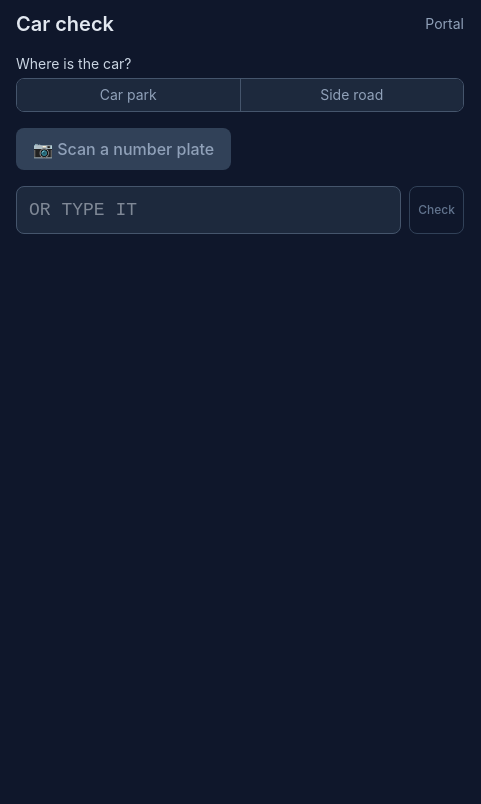
Car check › Not found offers Record this car; it saves the place chosen for the check, and the note
Click the radio button labelled "Side road": (351, 95) [240, 79, 463, 111]
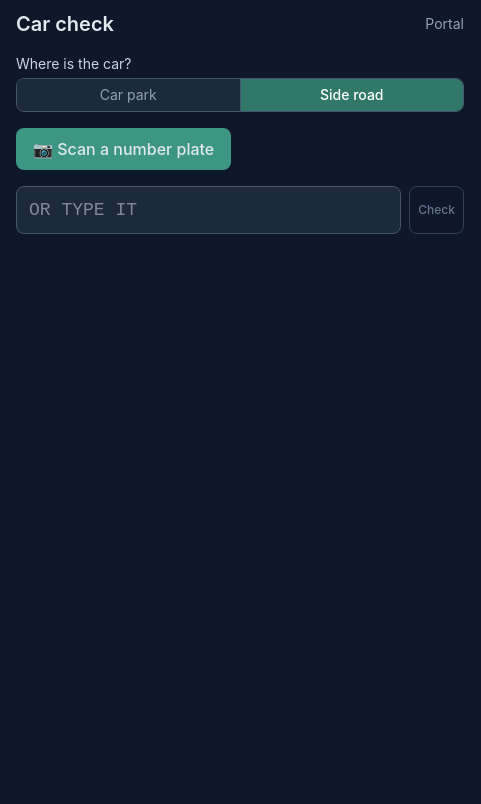
In the field with placeholder "Or type it": (209, 210) [16, 186, 401, 234], type "zz99 zzz"
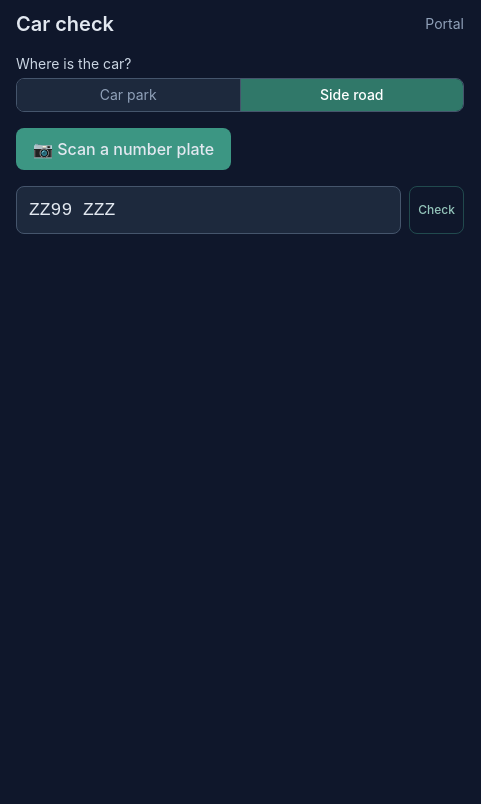
Click the button "Check": (437, 210) [409, 186, 464, 234]
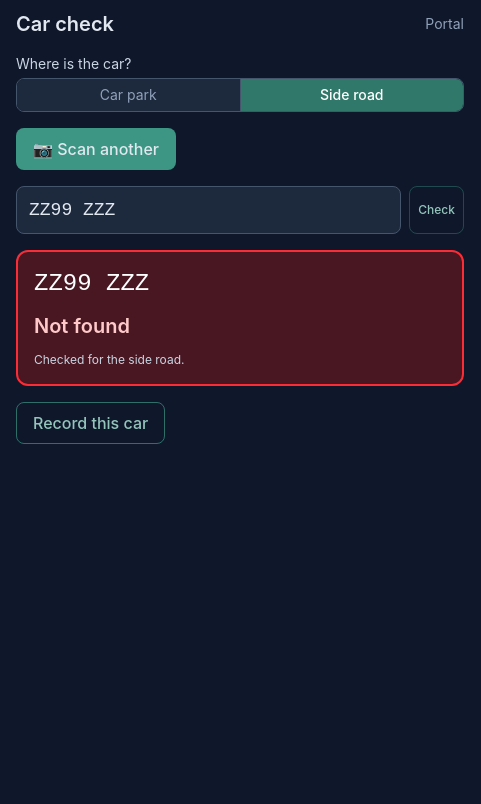
Click the button "Record this car": (91, 423) [16, 402, 165, 444]
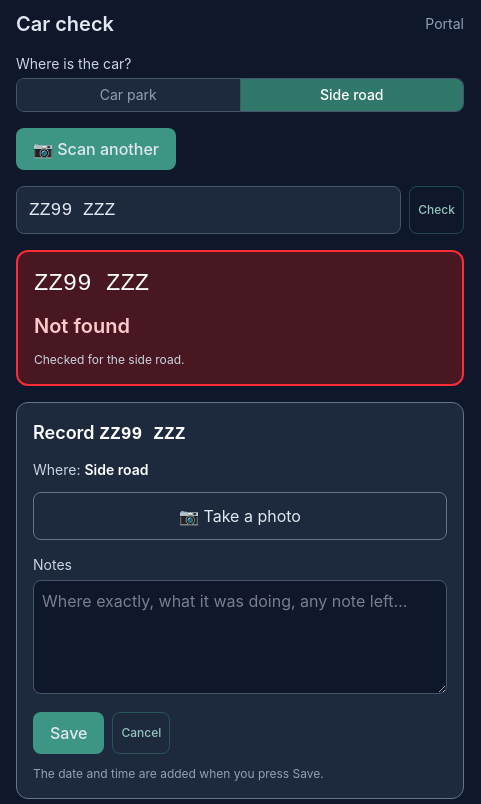
expect the element with test id "record-sighting" shows "Where: Side road": met, box [16, 402, 464, 799]
In the text box labelled "Notes": (240, 637) [33, 580, 447, 694], type "on the corner"
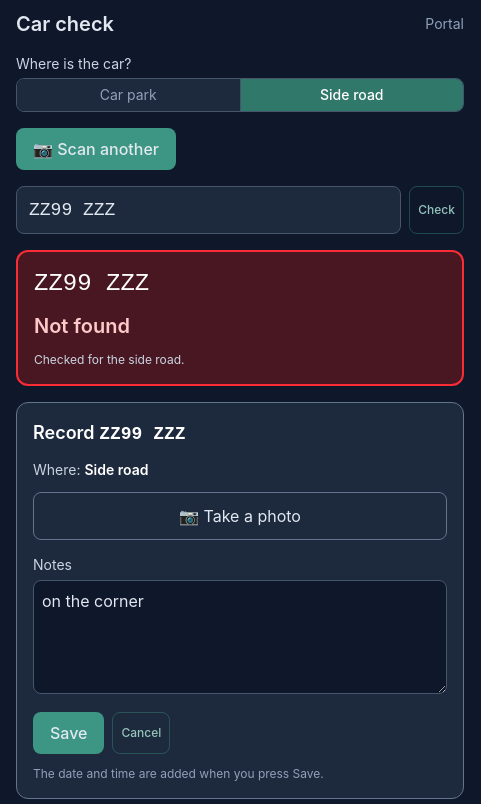
Click the button "Save": (69, 733) [33, 712, 104, 754]
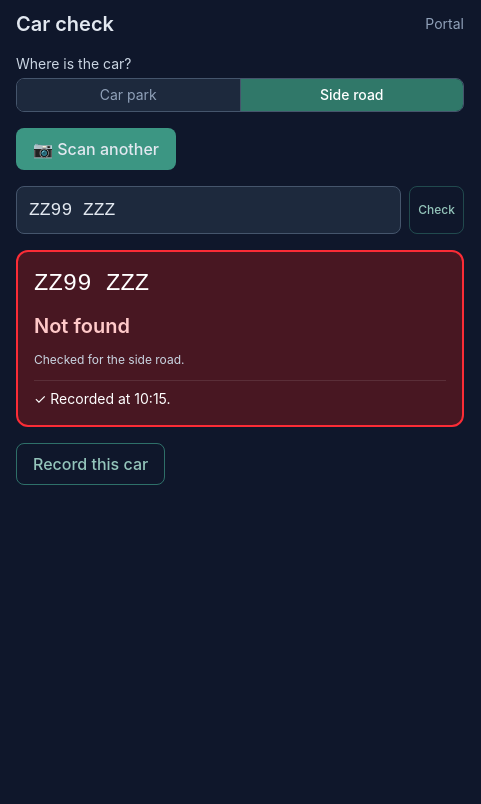
expect the message shows "Recorded at": met, box [34, 390, 171, 407]
